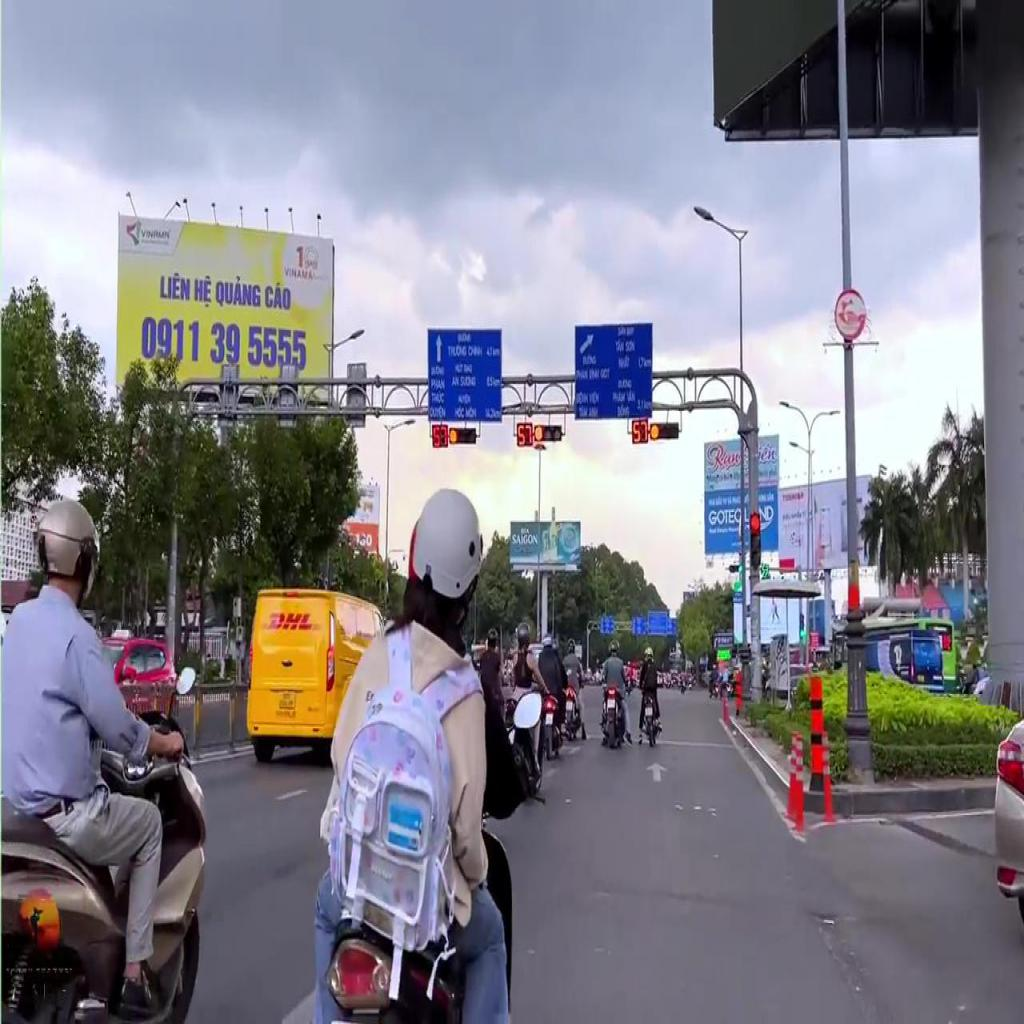khac: (574, 321, 652, 424), (428, 328, 502, 422)
